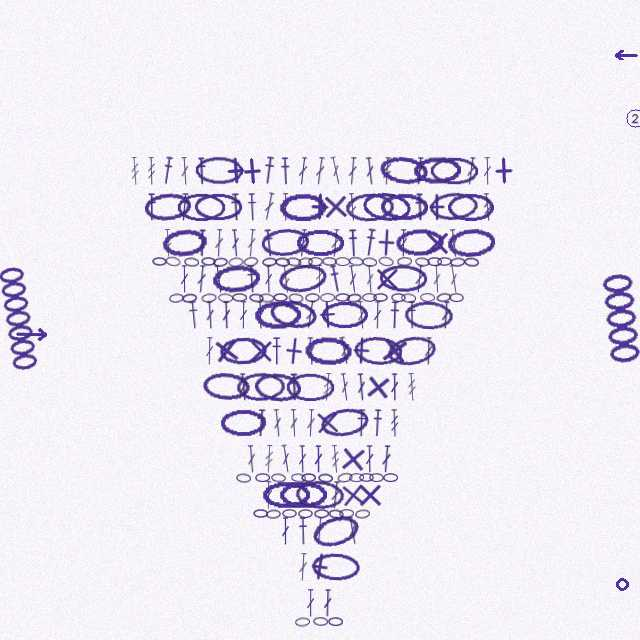chain: (309, 511, 362, 551), (386, 333, 438, 368), (277, 261, 329, 296), (319, 405, 370, 440), (268, 297, 319, 332), (361, 190, 413, 223), (378, 154, 429, 187), (253, 371, 303, 403), (211, 263, 261, 295), (143, 191, 193, 223), (260, 227, 311, 258), (295, 479, 345, 510), (353, 335, 403, 366), (446, 227, 496, 258), (161, 227, 209, 259), (202, 371, 251, 402), (429, 191, 478, 222), (345, 192, 395, 222), (311, 552, 360, 582), (219, 336, 268, 366), (404, 300, 453, 330), (236, 372, 286, 401), (379, 264, 428, 293), (395, 228, 444, 257), (304, 336, 352, 365), (195, 156, 243, 185), (413, 156, 461, 185), (286, 373, 335, 401), (177, 193, 226, 221), (194, 193, 243, 221), (254, 300, 301, 329), (262, 481, 310, 509), (279, 481, 327, 509), (321, 301, 369, 329), (296, 229, 344, 257), (380, 193, 428, 221), (447, 193, 495, 221), (430, 157, 478, 185), (220, 409, 267, 437), (279, 193, 326, 221), (337, 472, 353, 483), (436, 292, 452, 303), (165, 256, 181, 267), (243, 256, 259, 267), (348, 256, 364, 267), (378, 256, 394, 267), (328, 509, 344, 519), (201, 293, 217, 303), (288, 293, 304, 303), (346, 293, 362, 303), (228, 257, 244, 267), (286, 257, 302, 267), (295, 617, 310, 627), (266, 509, 281, 519), (355, 509, 370, 519), (236, 473, 251, 483), (271, 473, 286, 483), (291, 473, 306, 483), (318, 473, 333, 483), (169, 293, 184, 303), (182, 293, 197, 303), (218, 293, 233, 303), (249, 293, 264, 303), (259, 293, 274, 303), (401, 293, 416, 303), (184, 257, 199, 267), (213, 257, 228, 267), (262, 257, 277, 267), (275, 257, 290, 267), (298, 257, 313, 267), (362, 257, 377, 267), (415, 257, 430, 267), (450, 257, 465, 267), (464, 257, 479, 267), (313, 617, 328, 626), (328, 617, 343, 626), (253, 509, 268, 518), (282, 509, 297, 518), (298, 509, 313, 518), (314, 509, 329, 518), (339, 509, 354, 518), (255, 473, 270, 482), (301, 473, 316, 482), (349, 473, 364, 482), (359, 473, 374, 482), (369, 473, 384, 482), (383, 473, 398, 482), (232, 293, 247, 302), (273, 293, 288, 302), (305, 293, 320, 302), (320, 293, 335, 302), (335, 293, 350, 302), (362, 293, 377, 302), (373, 293, 388, 302), (391, 293, 406, 302), (420, 293, 435, 302), (449, 293, 464, 302), (152, 257, 167, 266), (201, 257, 216, 266), (308, 257, 323, 266), (322, 257, 337, 266), (335, 257, 350, 266), (397, 257, 412, 266), (427, 257, 442, 266), (437, 257, 452, 266)
double: (262, 192, 276, 221), (329, 156, 343, 185), (346, 516, 359, 545), (338, 336, 351, 365), (304, 300, 317, 329), (280, 444, 292, 473), (339, 373, 351, 401), (213, 265, 225, 293), (347, 265, 359, 293), (448, 265, 460, 293), (297, 229, 309, 257), (448, 229, 460, 257), (297, 157, 309, 185), (314, 157, 326, 185), (364, 157, 376, 185), (465, 157, 477, 185), (314, 517, 325, 545), (330, 481, 341, 509), (246, 445, 257, 473), (381, 445, 392, 473), (272, 409, 283, 437), (238, 373, 249, 401), (356, 373, 367, 401), (356, 301, 367, 329), (196, 265, 207, 293), (414, 265, 425, 293), (230, 229, 241, 257), (246, 229, 257, 257), (330, 229, 341, 257), (347, 157, 358, 185), (414, 157, 425, 185), (298, 553, 308, 581), (289, 409, 299, 437), (306, 409, 316, 437), (306, 337, 316, 365), (205, 301, 215, 329), (441, 301, 451, 329), (365, 265, 375, 293), (432, 265, 442, 293), (214, 229, 224, 257), (180, 157, 190, 185), (306, 589, 315, 617), (323, 589, 332, 617), (281, 517, 290, 545), (264, 481, 273, 509), (298, 445, 307, 473), (314, 445, 323, 473), (365, 445, 374, 473), (390, 373, 399, 401), (205, 337, 214, 365), (424, 337, 433, 365), (222, 301, 231, 329), (239, 301, 248, 329), (256, 301, 265, 329), (373, 301, 382, 329), (180, 265, 189, 293), (264, 265, 273, 293), (399, 229, 408, 257), (281, 193, 290, 221), (483, 157, 492, 185)
enseble_chain: (0, 265, 41, 374), (599, 272, 640, 367)
half_double: (328, 264, 343, 293), (363, 228, 377, 257), (262, 156, 276, 185), (161, 156, 174, 185), (187, 301, 200, 329), (245, 265, 258, 293), (178, 193, 191, 221), (255, 409, 267, 437), (288, 373, 300, 401), (263, 229, 275, 257), (347, 229, 359, 257), (230, 193, 242, 221), (246, 193, 258, 221), (414, 193, 426, 221), (356, 409, 367, 437), (372, 409, 383, 437), (271, 337, 282, 365), (389, 301, 400, 329), (146, 193, 157, 221), (196, 157, 207, 185), (280, 157, 291, 185), (298, 517, 308, 545), (407, 301, 417, 329), (197, 229, 207, 257)
noise: (15, 328, 49, 341), (624, 107, 640, 129), (612, 50, 638, 60), (615, 577, 630, 592)
single: (304, 551, 335, 582), (211, 335, 242, 366), (379, 335, 410, 366), (338, 480, 368, 510), (338, 444, 368, 474), (363, 372, 393, 402), (279, 336, 309, 366), (237, 156, 267, 186), (313, 408, 342, 437), (347, 336, 376, 365), (313, 300, 342, 329), (372, 228, 401, 257), (305, 192, 334, 221), (321, 192, 350, 221), (221, 156, 250, 185), (489, 156, 518, 185), (356, 481, 384, 509), (247, 337, 275, 365), (373, 265, 401, 293), (423, 229, 451, 257), (423, 193, 451, 221)
treble: (280, 265, 292, 293), (330, 445, 341, 473), (322, 373, 333, 401), (347, 193, 358, 221), (482, 193, 493, 221), (264, 445, 274, 473), (407, 373, 417, 401), (163, 229, 173, 257), (130, 157, 140, 185), (382, 157, 392, 185), (390, 409, 399, 437), (315, 265, 324, 293), (147, 157, 156, 185)
